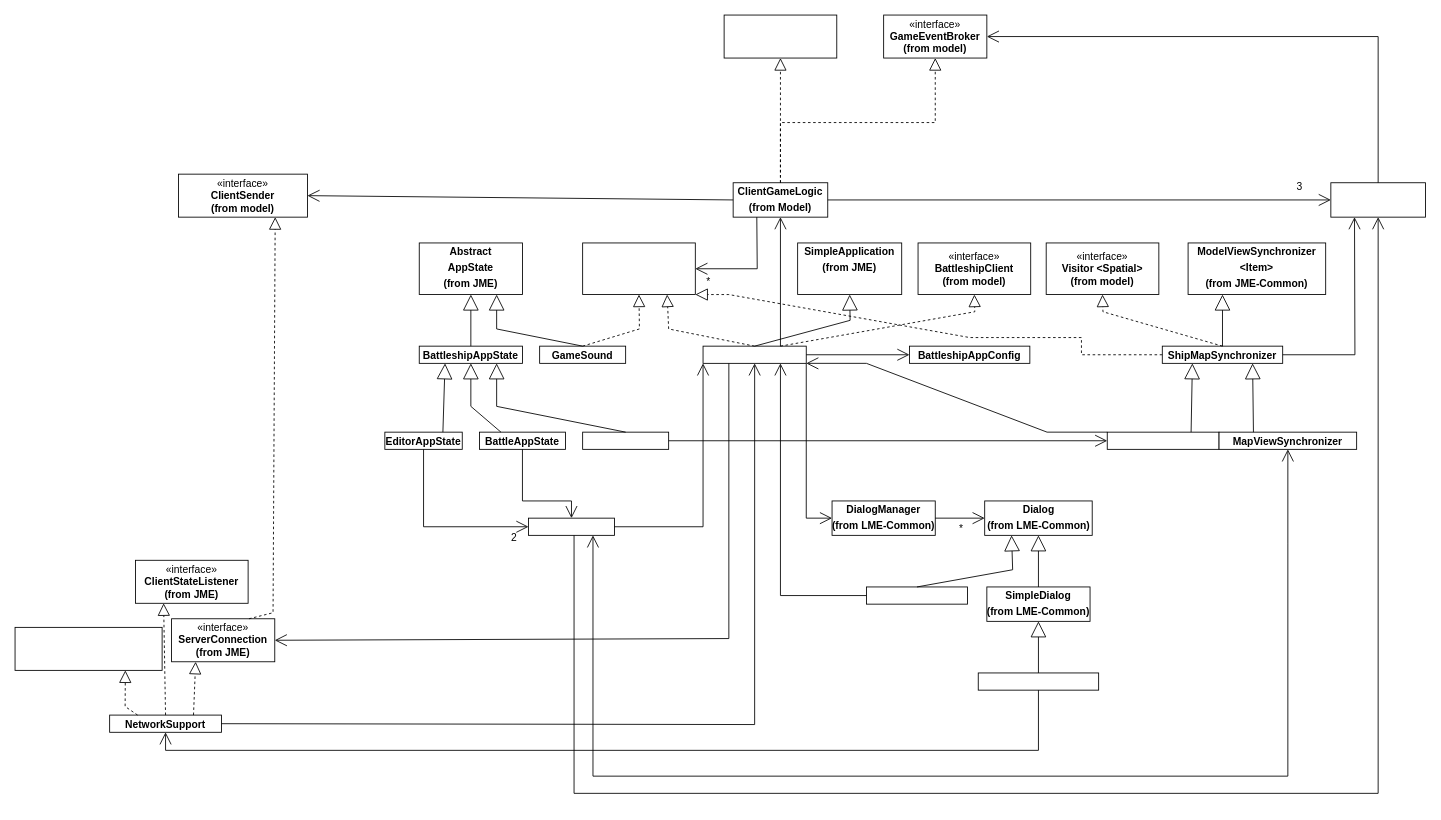
This 1441x820 diagram has some shape labels left out. The shapes that lost their labels are listed below. From the top down, each one's box as (x1, y1, x2, y2) in pixels, then its label:
(723, 14, 837, 58): «interface» ServerInterpreter (from model)
(1330, 182, 1425, 217): ShipMap (from Model)
(582, 242, 695, 295): «interface» gameEventListener (from model)
(702, 345, 806, 363): BattleshipApp
(582, 431, 669, 449): SeaAppState
(1106, 431, 1219, 449): SeaSynchronizer
(528, 517, 614, 535): MapView
(866, 586, 968, 604): Menu
(14, 627, 162, 670): «interface» MessageListener <Client> (from JME)
(977, 672, 1099, 690): NetworkDialog
